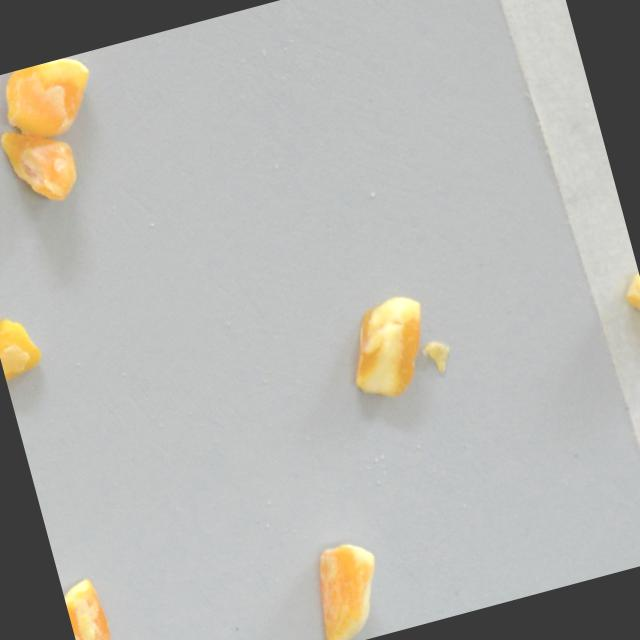pelicula: (335, 290, 443, 408), (0, 52, 104, 150), (300, 537, 396, 640), (0, 115, 85, 214), (0, 311, 48, 385), (60, 577, 114, 640)
